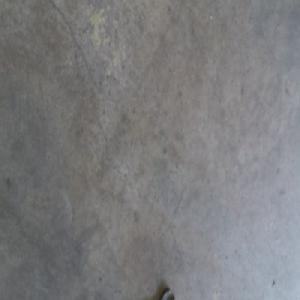Wrench: (161, 289, 171, 299)
